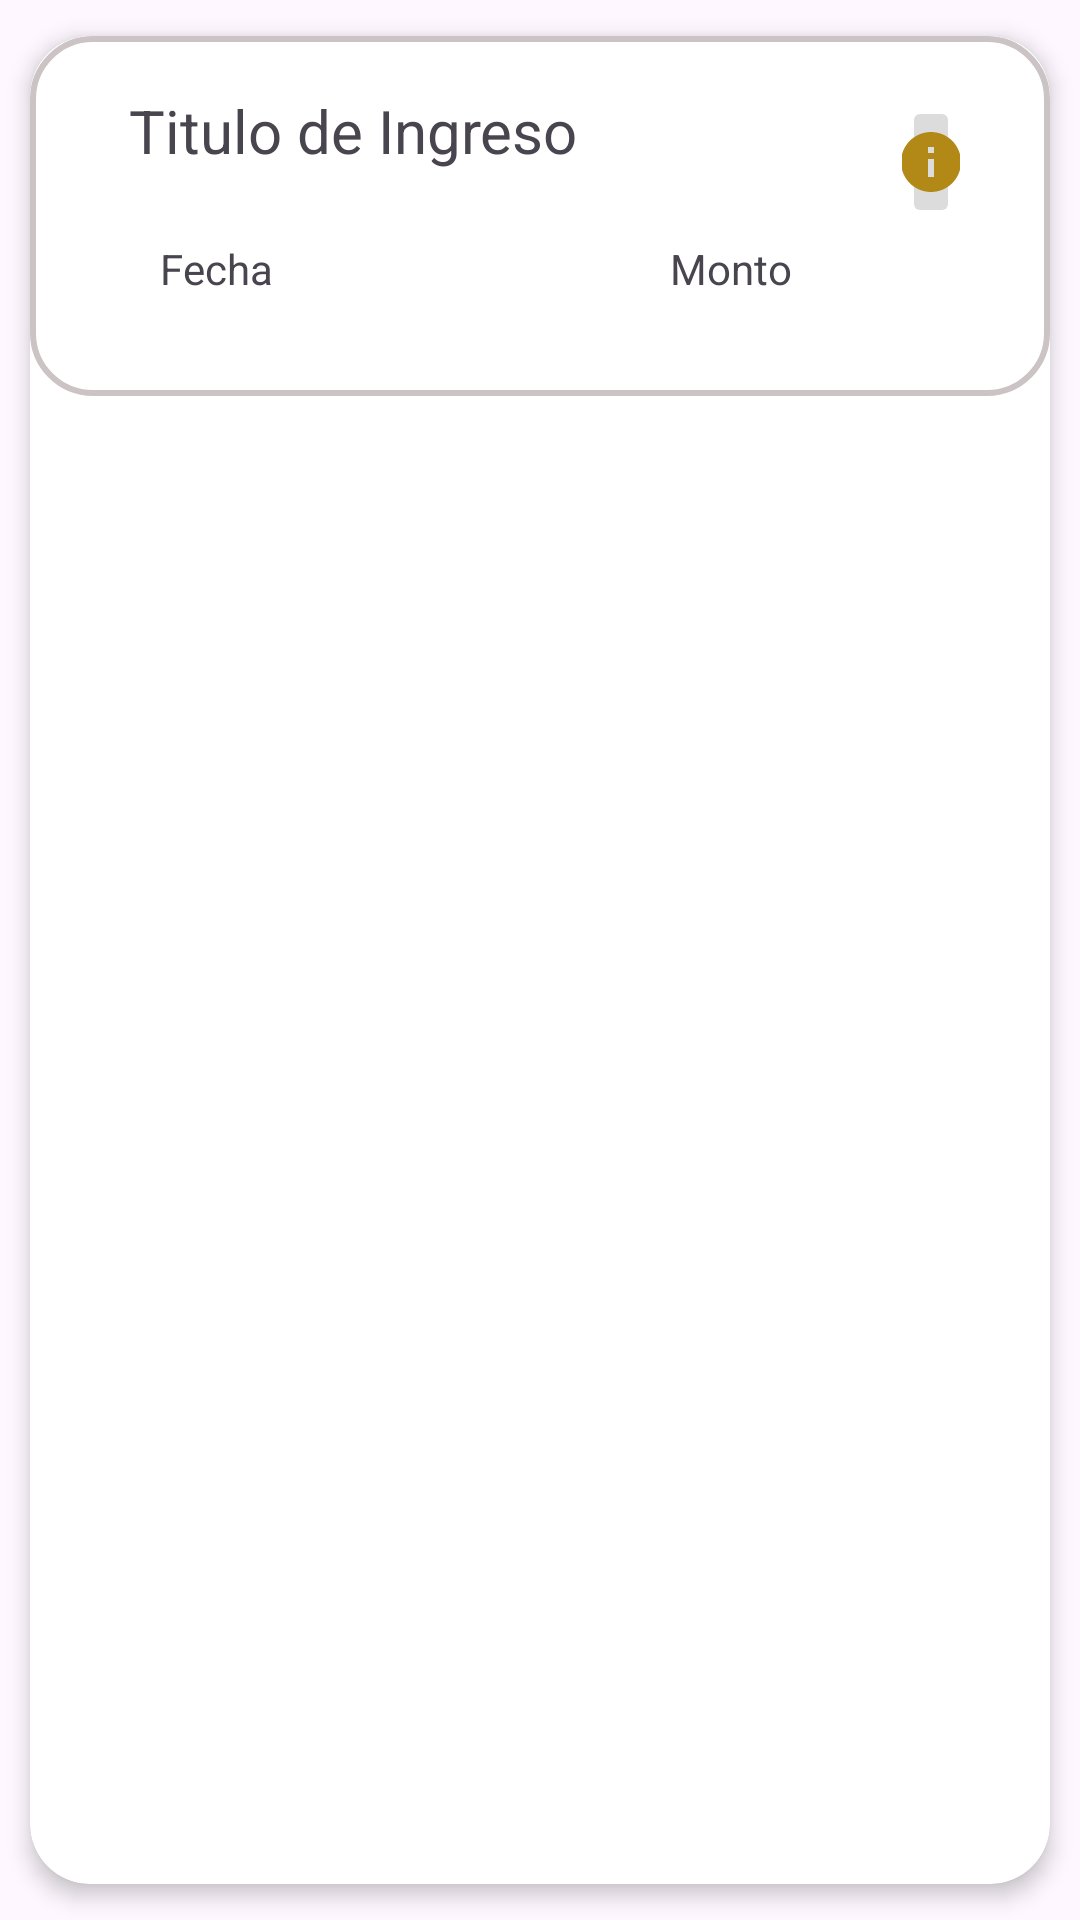

Icons on this 1080 x 1920 Android screen, each with the point to tap as [x,y]:
info: [931,162]
